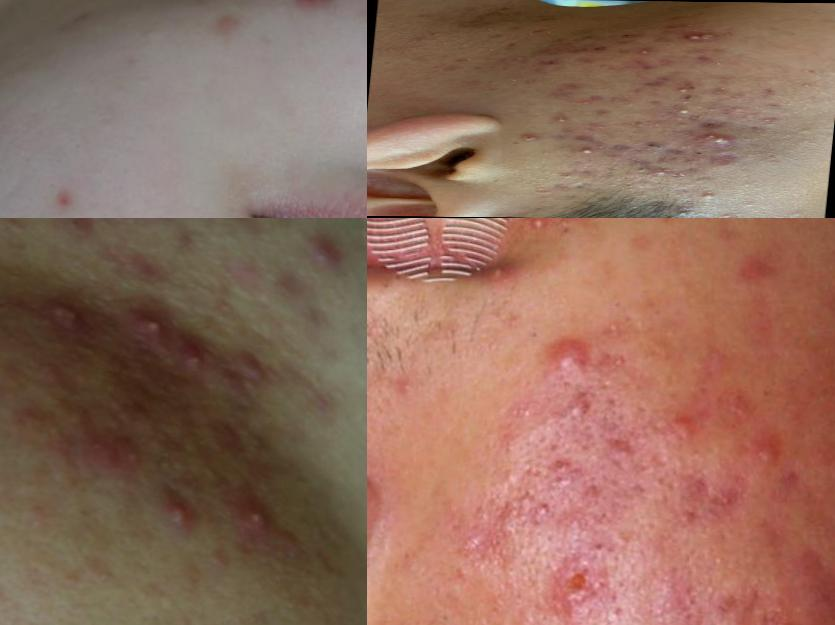acne_scars: (206, 1, 250, 48), (282, 1, 347, 18)
blackhead: (634, 141, 683, 153), (514, 132, 544, 144), (553, 172, 582, 181)
papular: (22, 151, 111, 219), (552, 325, 610, 381), (660, 396, 711, 445), (91, 428, 151, 468), (299, 235, 356, 269)
purulent: (151, 484, 205, 537), (484, 246, 527, 307), (234, 492, 291, 525), (528, 219, 585, 248), (135, 308, 173, 349), (183, 342, 217, 378), (671, 84, 697, 97), (651, 167, 681, 178), (697, 191, 724, 202), (576, 145, 600, 156), (674, 108, 700, 118), (551, 116, 576, 125)
sebo-crystan-conglo: (776, 545, 835, 625), (38, 289, 88, 340), (693, 129, 741, 150), (679, 31, 732, 44)
whitehead: (497, 464, 538, 495), (787, 77, 829, 90), (504, 76, 537, 88), (481, 41, 498, 56), (640, 47, 668, 56), (542, 28, 567, 38), (756, 113, 778, 123), (558, 14, 570, 25), (483, 27, 505, 32)
